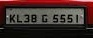numberplate: (4, 5, 86, 26)
